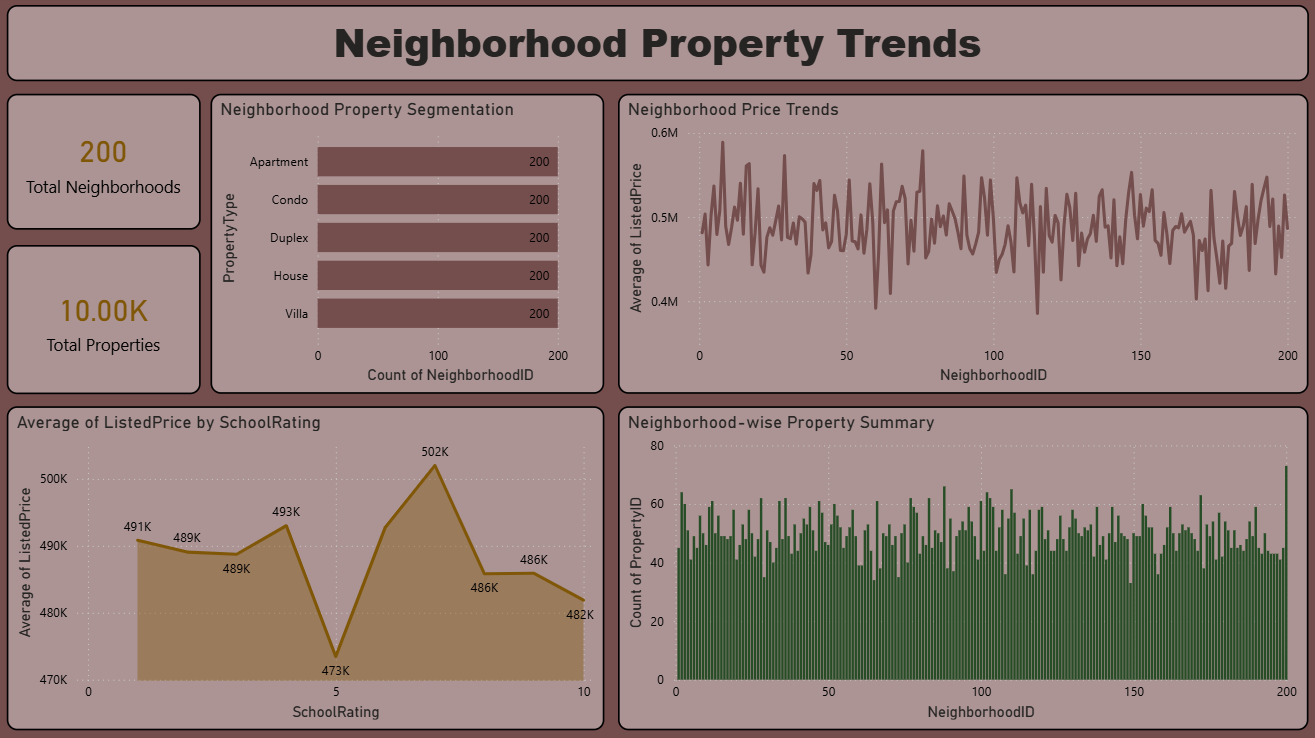

The page's visual inventory and layout, read from the dashboard file:
{"tool":"powerbi","page":{"name":"Neighbor-Prop","canvas":[1280,720],"ordinal":11},"visuals":[{"type":"columnChart","title":"Neighborhood-wise Property Summary","fields":{"Category":["Neighborhoods.NeighborhoodID"],"Y":["Count(Properties.PropertyID)"]},"box":[603.1,396.8,666.6,313.1],"z":0},{"type":"lineChart","title":"Neighborhood Price Trends","fields":{"Category":["Neighborhoods.NeighborhoodID"],"Y":["Avg(Properties.ListedPrice)"]},"box":[603.1,95.2,666.6,290],"z":1000},{"type":"barChart","title":"Neighborhood Property Segmentation","fields":{"Category":["Properties.PropertyType"],"Y":["CountNonNull(Neighborhoods.NeighborhoodID)"]},"box":[210.3,95.4,380.3,289.8],"z":2000},{"type":"areaChart","fields":{"Category":["Neighborhoods.SchoolRating"],"Y":["Avg(Properties.ListedPrice)"]},"box":[13,396.8,577.1,313.1],"z":3000},{"type":"textbox","box":[13,10.1,1256.6,73.6],"z":4000},{"type":"card","fields":{"Values":["CountNonNull(Neighborhoods.NeighborhoodID)"]},"box":[13.5,95.4,187.1,130.8],"z":5000},{"type":"card","fields":{"Values":["CountNonNull(Properties.PropertyID)"]},"box":[13.5,240.9,187.1,144.3],"z":6000}]}

Visuals, with their boxes in screenshot pixels (x1, y1, x2, y2), scaled from the page's 1280x720 canvas onto the 1315x738 screenshot:
"Neighborhood-wise Property Summary" columnChart: BBox(620, 407, 1304, 728)
"Neighborhood Price Trends" lineChart: BBox(620, 98, 1304, 395)
"Neighborhood Property Segmentation" barChart: BBox(216, 98, 607, 395)
areaChart - Neighborhoods.SchoolRating x Avg(Properties.ListedPrice): BBox(13, 407, 606, 728)
textbox: BBox(13, 10, 1304, 86)
card - CountNonNull(Neighborhoods.NeighborhoodID): BBox(14, 98, 206, 232)
card - CountNonNull(Properties.PropertyID): BBox(14, 247, 206, 395)
